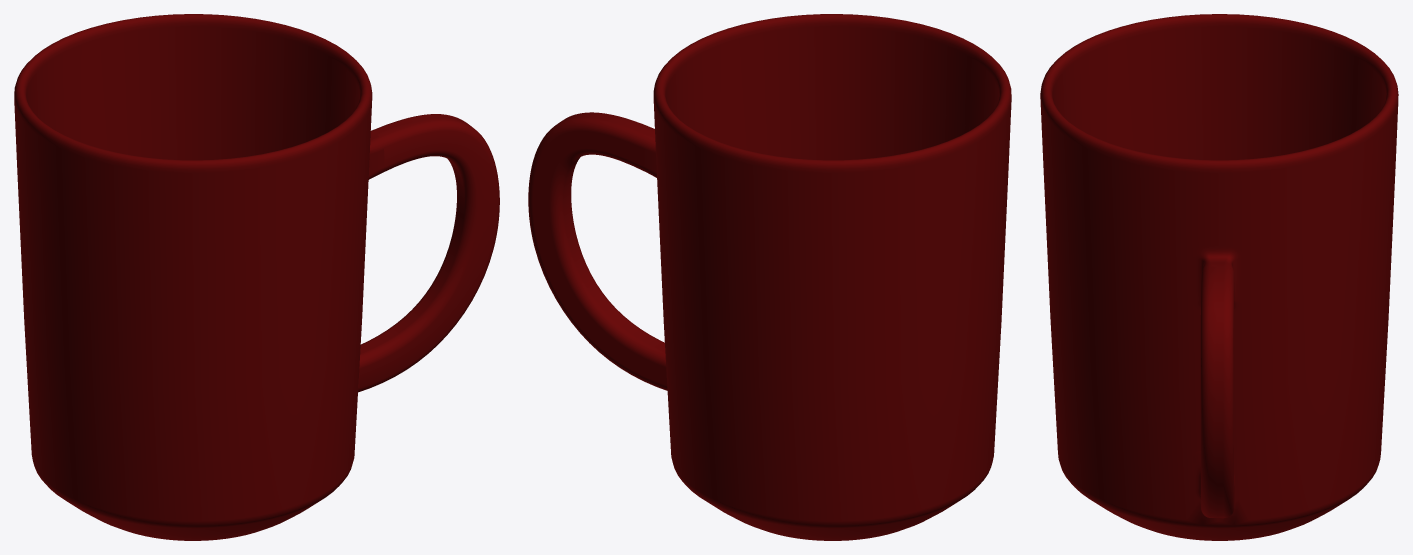
Rendered from Ruby4033G.glb.
The picture shows the model from 3 angles, left to right: view 1: azimuth 30°, elevation 25°; view 2: azimuth 150°, elevation 25°; view 3: azimuth 270°, elevation 25°; orthographic projection.
Parts seen in each view (by area): view 1: Default(9CBB888B-2FB9-49EC-84C4-15E3D49C7D63), Default(4D254076-CE51-4346-8CD2-DE9B0AFA1A8A), Default(B4D50A32-E7DF-487F-B27A-381CCB25B83D), li(4D24C541-A2D1-4410-B74F-43AA679C60EB)_0_0, Default(01C4666E-3F9F-4F70-9F09-46D744C07B4C), Default(FAC2D155-0A2E-4D4C-A67E-FA73BF5D9832), Default(504E14E6-B062-4BEE-9D6E-D268E1880296); view 2: Default(9CBB888B-2FB9-49EC-84C4-15E3D49C7D63), Default(4D254076-CE51-4346-8CD2-DE9B0AFA1A8A), Default(FAC2D155-0A2E-4D4C-A67E-FA73BF5D9832), li(4D24C541-A2D1-4410-B74F-43AA679C60EB)_0_0, Default(01C4666E-3F9F-4F70-9F09-46D744C07B4C), Default(B4D50A32-E7DF-487F-B27A-381CCB25B83D); view 3: Default(9CBB888B-2FB9-49EC-84C4-15E3D49C7D63), Default(4D254076-CE51-4346-8CD2-DE9B0AFA1A8A), li(4D24C541-A2D1-4410-B74F-43AA679C60EB)_0_0, Default(01C4666E-3F9F-4F70-9F09-46D744C07B4C), Default(FAC2D155-0A2E-4D4C-A67E-FA73BF5D9832), Default(B4D50A32-E7DF-487F-B27A-381CCB25B83D), Default(7CBEC4C0-9C10-46C5-AC96-E4D34F4AD7F7), Default(504E14E6-B062-4BEE-9D6E-D268E1880296).
Part boxes in pixels (x1,y1,x2,y2): Default(9CBB888B-2FB9-49EC-84C4-15E3D49C7D63): (14,96,372,540); Default(4D254076-CE51-4346-8CD2-DE9B0AFA1A8A): (26,26,359,129); Default(B4D50A32-E7DF-487F-B27A-381CCB25B83D): (358,117,499,392); li(4D24C541-A2D1-4410-B74F-43AA679C60EB)_0_0: (54,96,332,160); Default(01C4666E-3F9F-4F70-9F09-46D744C07B4C): (14,14,372,173); Default(FAC2D155-0A2E-4D4C-A67E-FA73BF5D9832): (360,114,468,353); Default(504E14E6-B062-4BEE-9D6E-D268E1880296): (368,134,384,179); Default(9CBB888B-2FB9-49EC-84C4-15E3D49C7D63): (653,96,1011,540); Default(4D254076-CE51-4346-8CD2-DE9B0AFA1A8A): (665,26,999,129); Default(FAC2D155-0A2E-4D4C-A67E-FA73BF5D9832): (528,115,667,390); li(4D24C541-A2D1-4410-B74F-43AA679C60EB)_0_0: (693,96,971,160); Default(01C4666E-3F9F-4F70-9F09-46D744C07B4C): (653,14,1011,173); Default(B4D50A32-E7DF-487F-B27A-381CCB25B83D): (562,112,664,344); Default(9CBB888B-2FB9-49EC-84C4-15E3D49C7D63): (1040,96,1398,540); Default(4D254076-CE51-4346-8CD2-DE9B0AFA1A8A): (1052,26,1386,129); li(4D24C541-A2D1-4410-B74F-43AA679C60EB)_0_0: (1080,96,1358,501); Default(01C4666E-3F9F-4F70-9F09-46D744C07B4C): (1040,14,1398,173); Default(FAC2D155-0A2E-4D4C-A67E-FA73BF5D9832): (1217,266,1234,518); Default(B4D50A32-E7DF-487F-B27A-381CCB25B83D): (1200,266,1217,517); Default(7CBEC4C0-9C10-46C5-AC96-E4D34F4AD7F7): (1218,245,1243,313); Default(504E14E6-B062-4BEE-9D6E-D268E1880296): (1192,245,1218,312).
Bounding box in the file's own units: 0.239 × 0.2087 × 0.1626.
